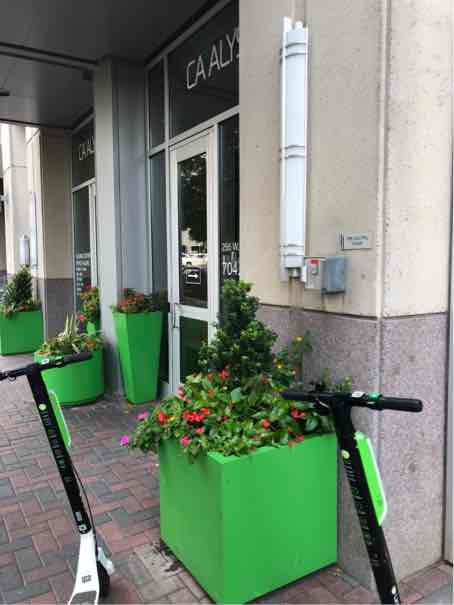scooter: (198, 367, 445, 594), (4, 343, 131, 598)
